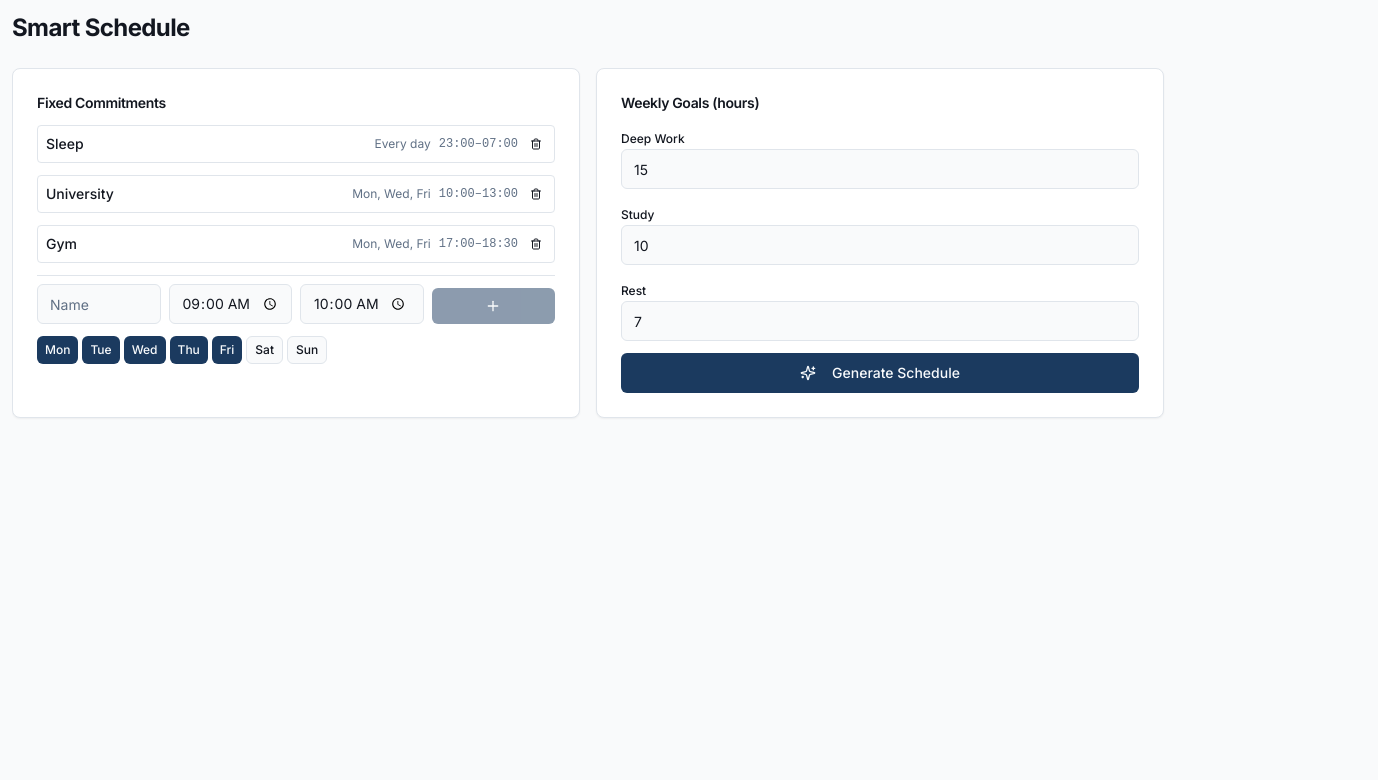
Test: Smart Schedule generation › shows what could not be placed
Click the button "Generate Schedule". click: (880, 373)
box: [621,353,1139,393]
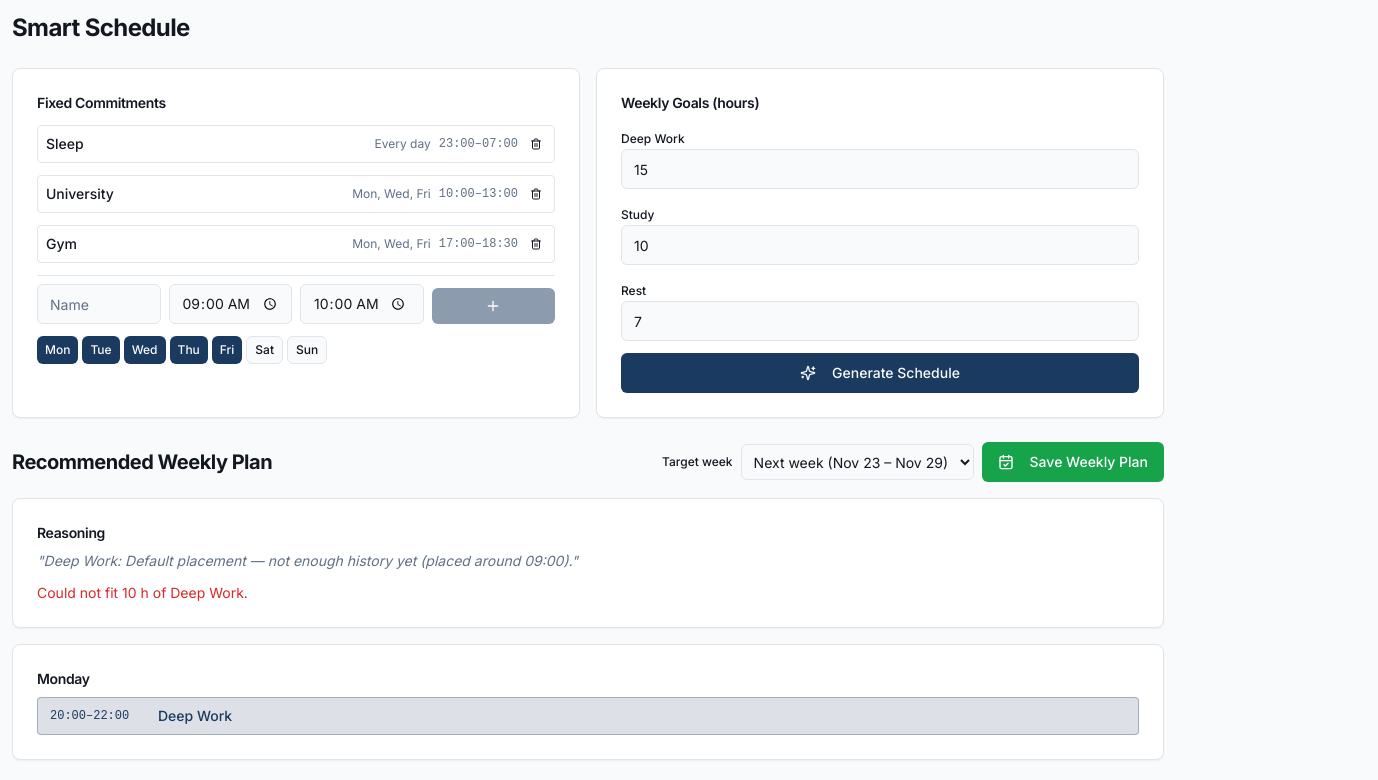
Now the list item "Could not fit 10 h of Deep Work." is shown, box [37,584,248,601]
